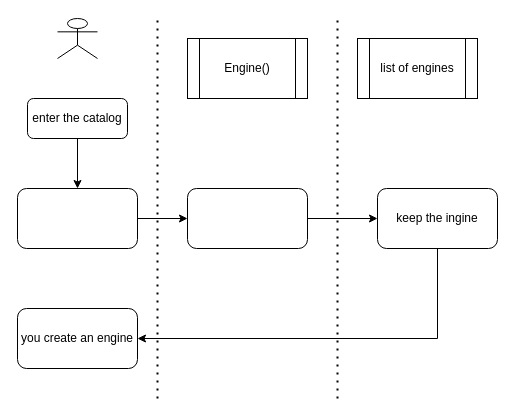
The diagram is 515 pixels wide and 417 high, and some of its shapes have lost their labels. Each missing label, with the box of its shape:
Choose create engine: (16, 188, 138, 248)
create the engine: (186, 188, 308, 248)
user: (56, 18, 98, 58)
